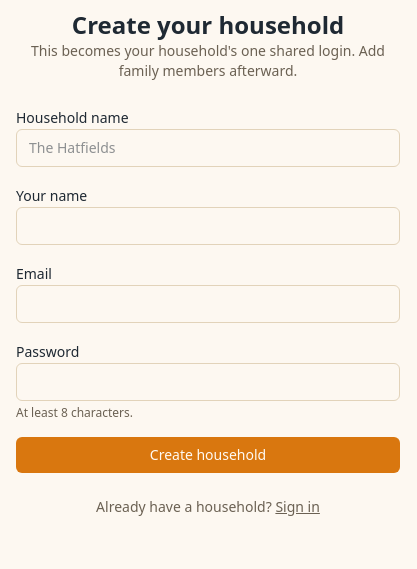
SignupPage › shows an error message on failure
Type "Hatfields" into the field labelled "Household name" at (208, 148), box 16,129 -> 400,167
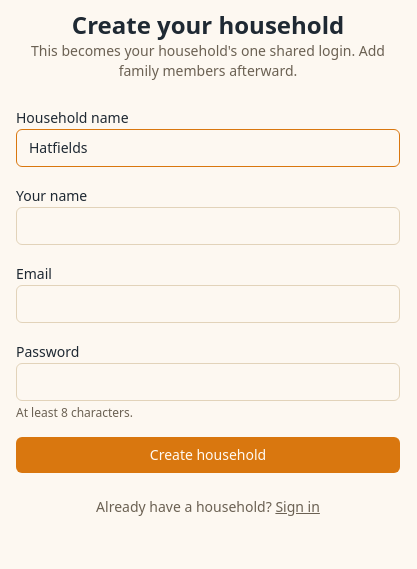
Type "Jeremy" into the field labelled "Your name" at (208, 226), box 16,207 -> 400,245
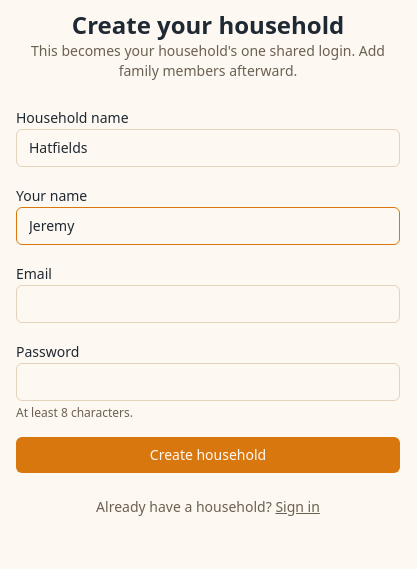
Type "j@example.com" into the field labelled "Email" at (208, 304), box 16,285 -> 400,323
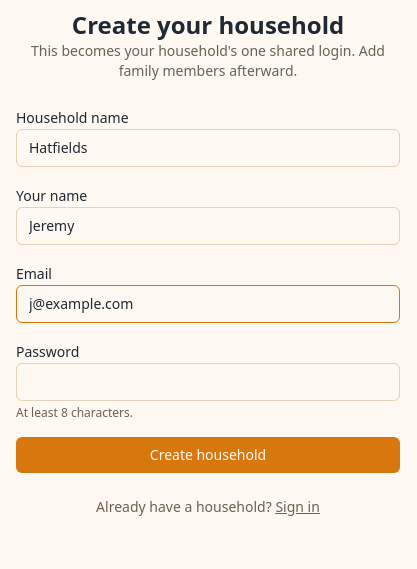
Type "hunter22" into the password field labelled "Password" at (208, 382), box 16,363 -> 400,401
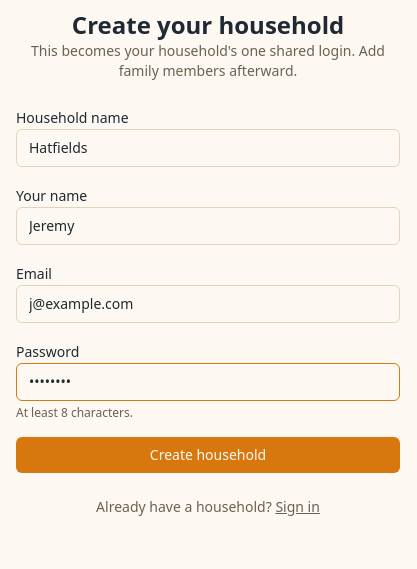
Click the button "Create household" at (208, 455), box 16,437 -> 400,473
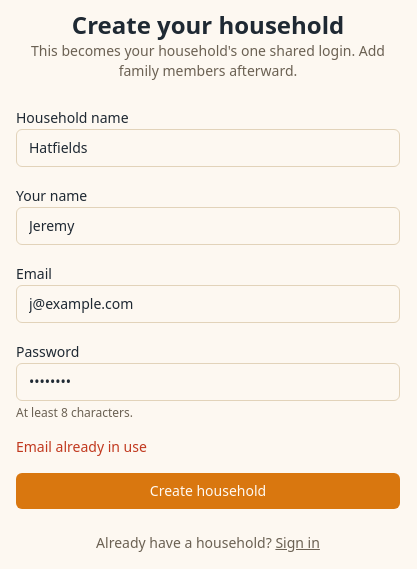
Expected: the message reads "Email already in use", 16,437 -> 147,456
